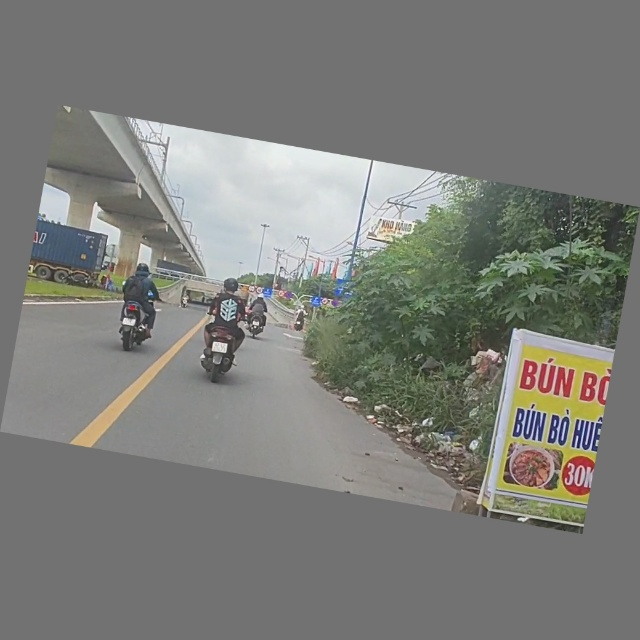P.107: (320, 297, 330, 306), (277, 290, 285, 298)
P.117*: (247, 285, 256, 293)
P.127*40: (255, 286, 264, 295)
P.130: (331, 299, 340, 308), (285, 291, 293, 299)
